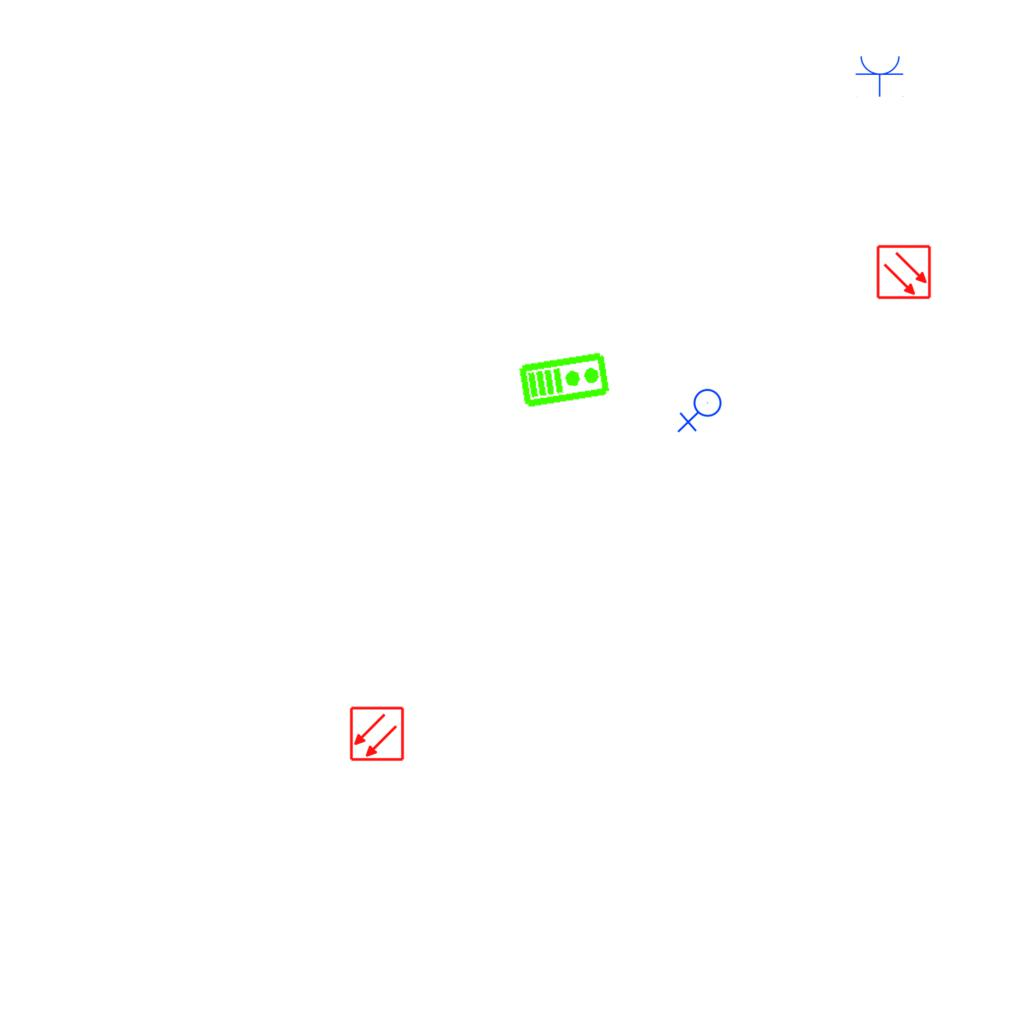Elektroanschluss_allgemein_230V_Geraeteanschlussdose_230V: (677, 388, 726, 435)
Gegensprechanlage_mit_Video: (517, 348, 612, 410)
RMO_Rauchmelder_optischer: (349, 706, 405, 762), (876, 244, 932, 300)
Schukosteckdose_einfach: (855, 54, 905, 97)
